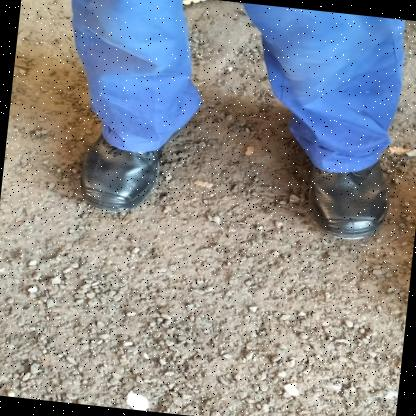bota: (61, 110, 166, 206), (299, 142, 398, 238)
